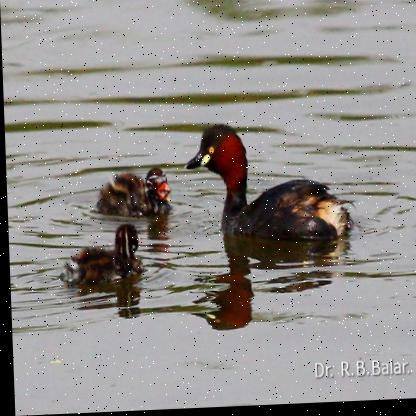Burung: (180, 120, 350, 245)
